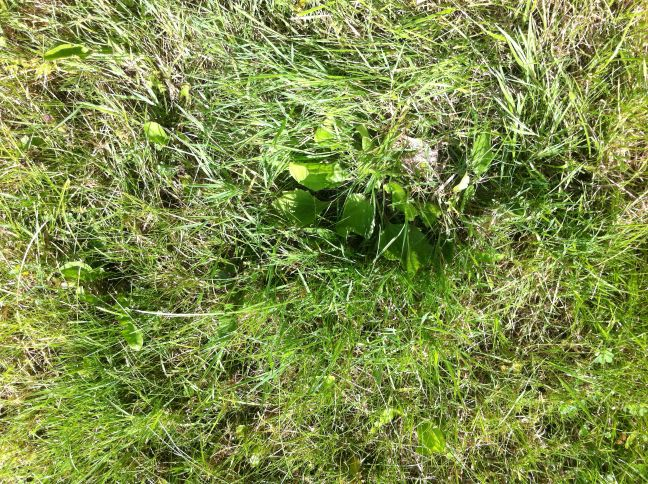weed1: (264, 118, 448, 281)
